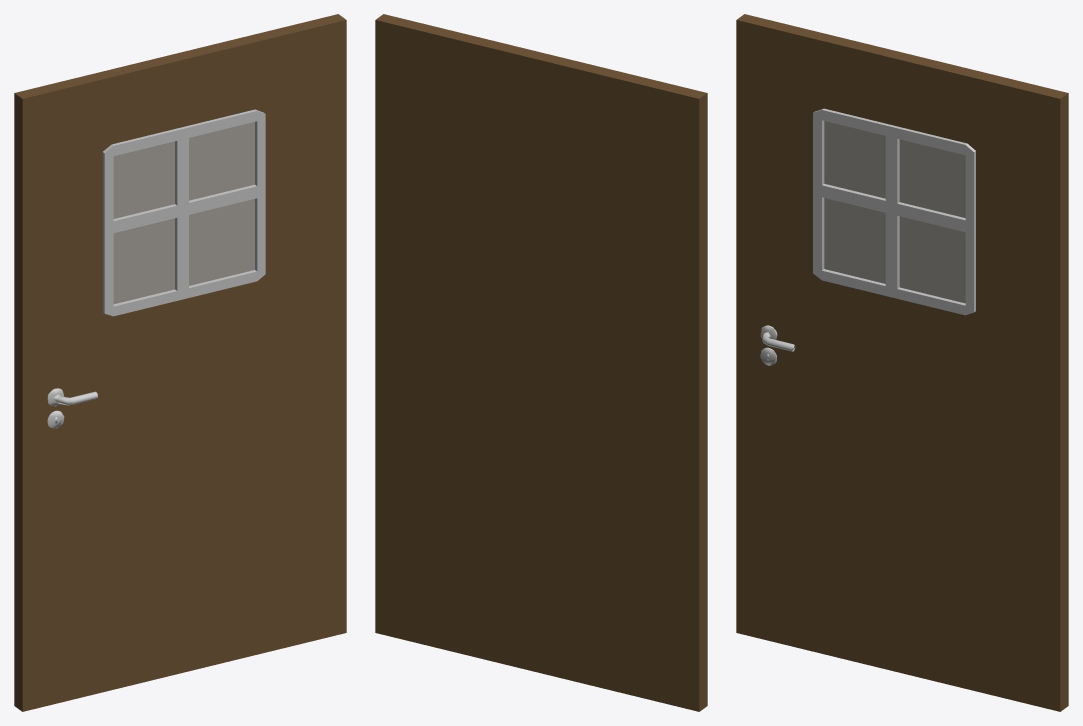
File: Ovi.fbx
The picture shows the model from 3 angles, left to right: view 1: azimuth 30°, elevation 25°; view 2: azimuth 150°, elevation 25°; view 3: azimuth 330°, elevation 25°; orthographic projection.
Parts seen in each view (by area): view 1: Ovi; view 2: Ovi; view 3: Ovi.
Boxes of the visible parts, x1,y1,x2,y2 form: Ovi: (14,14,346,711); Ovi: (375,14,707,711); Ovi: (736,14,1068,711).
Bounding box in the file's own units: 200 × 362 × 19.64.
